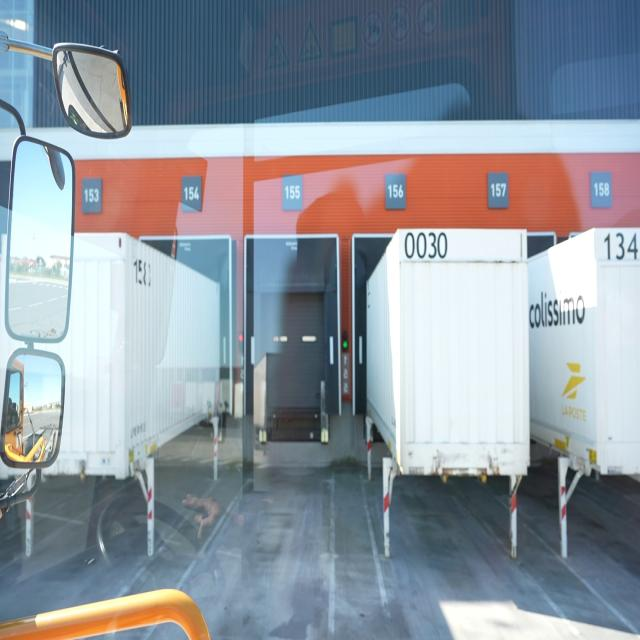Code: (402, 229, 451, 267)
